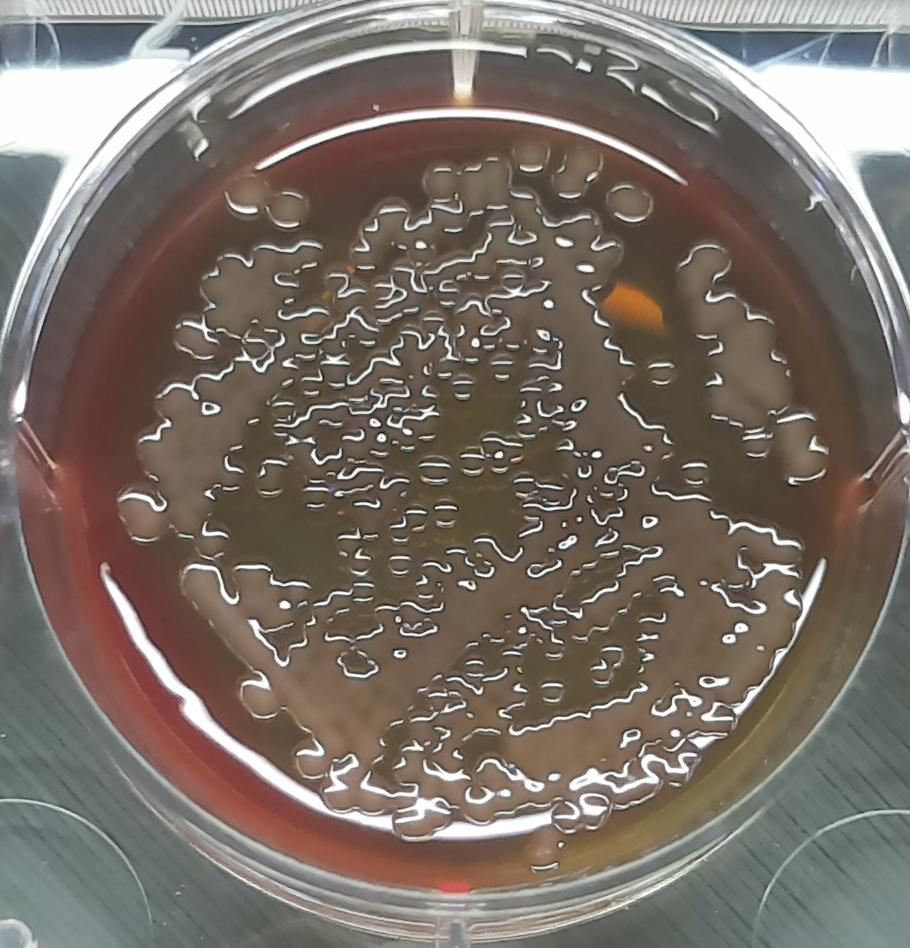vangil: (670, 228, 832, 490)
